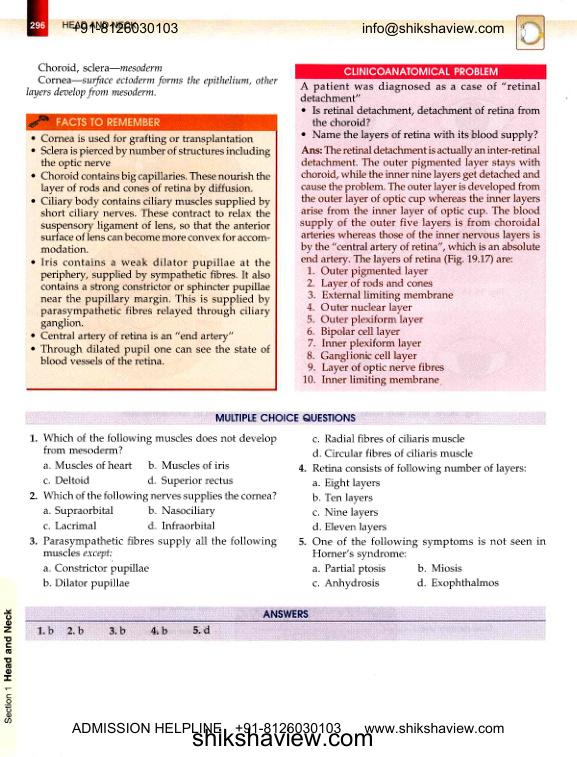caption: (55, 117, 161, 127)
list: (28, 133, 273, 368), (303, 265, 455, 387), (300, 104, 541, 142)
text: (300, 144, 542, 266), (25, 61, 279, 100), (299, 80, 541, 103)
